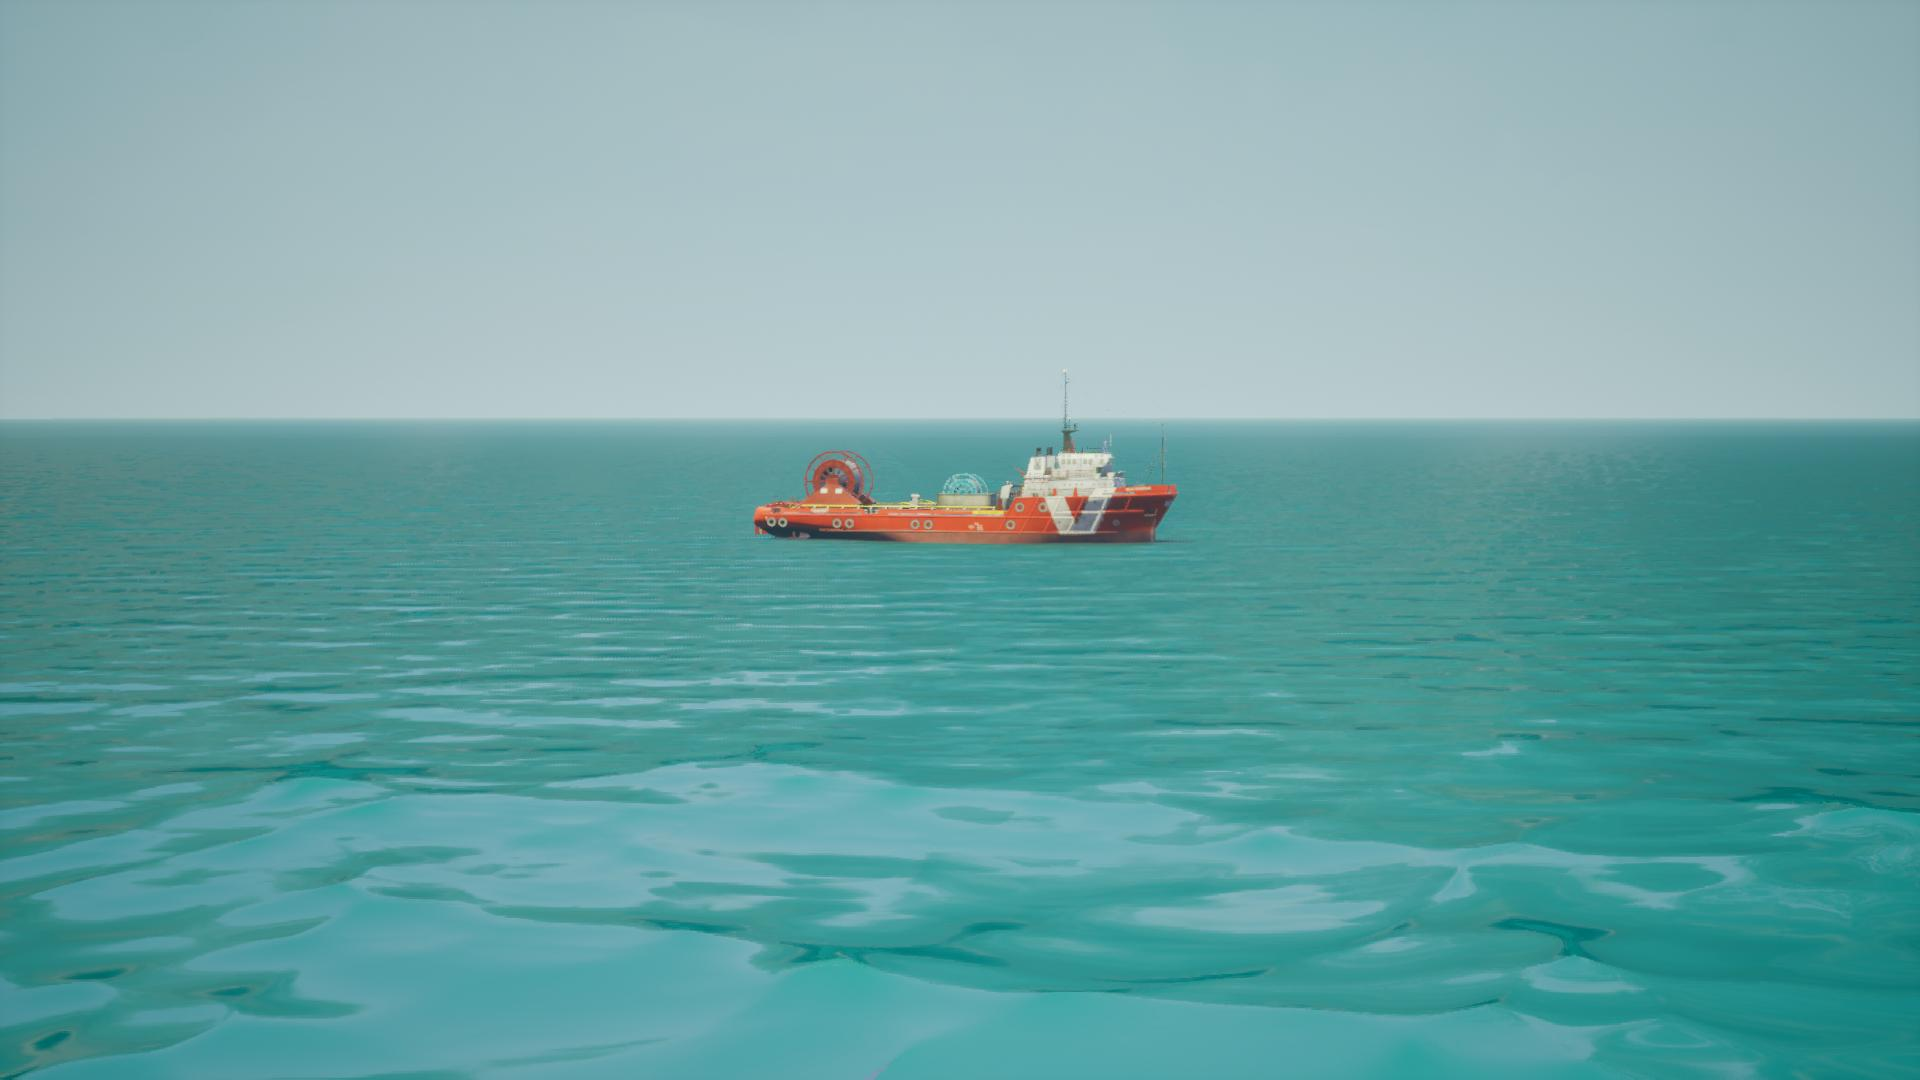Tug Boat: (756, 375, 1180, 547)
